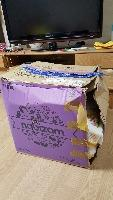damaged package: (78, 76, 108, 167)
undamaged: (0, 56, 111, 171)
